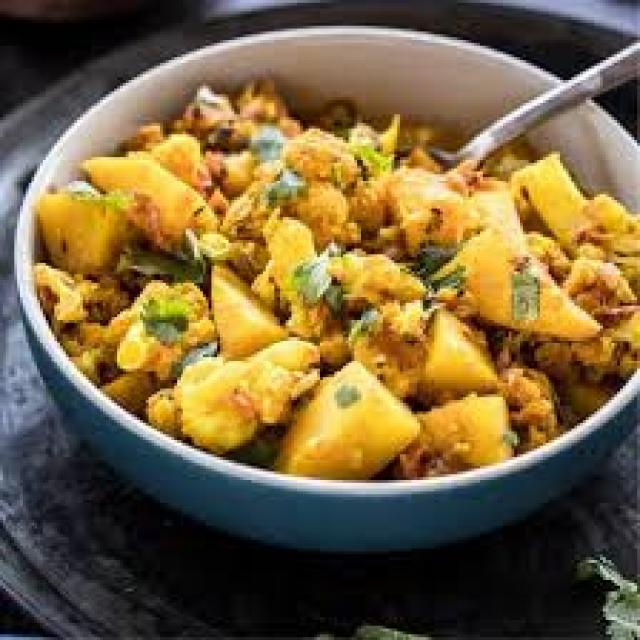Aloo Gobi: (51, 77, 467, 461)
